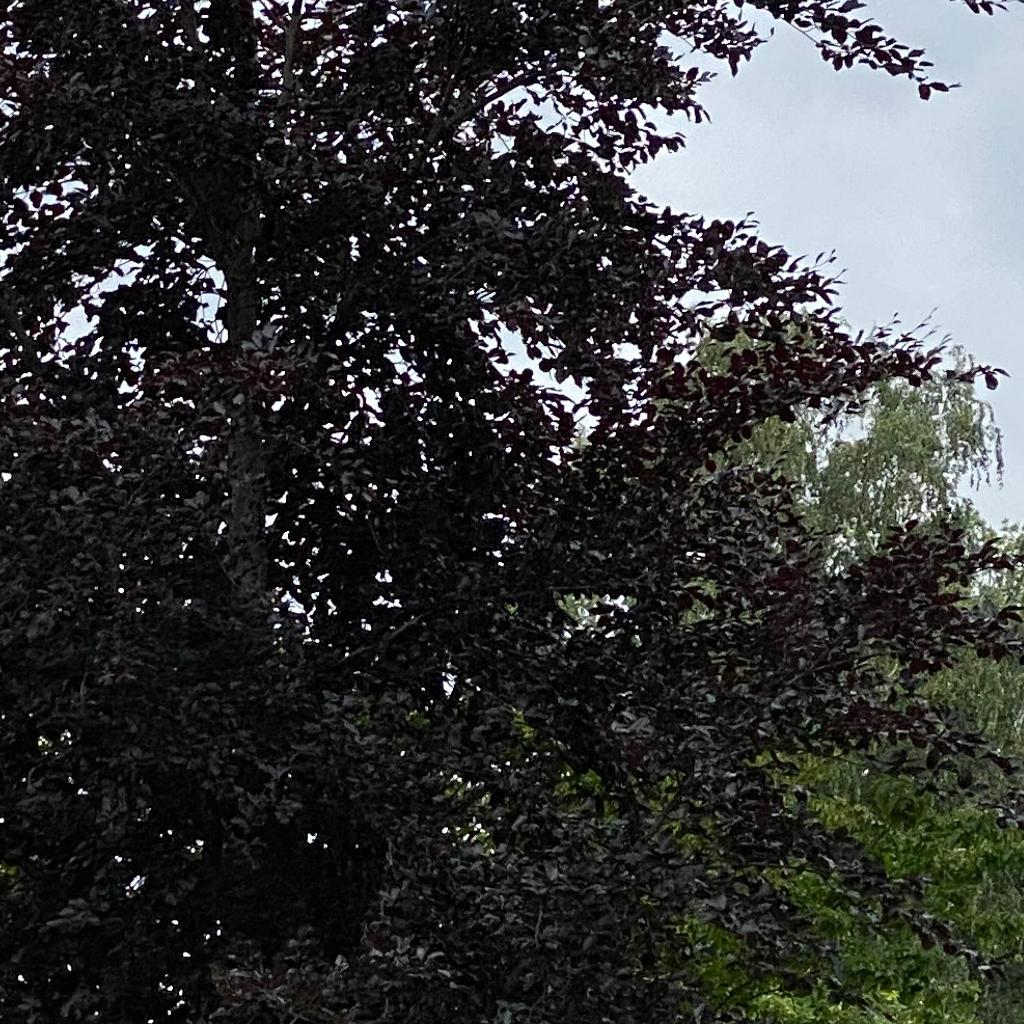tree: (1, 1, 1023, 1023), (506, 306, 1024, 813)
